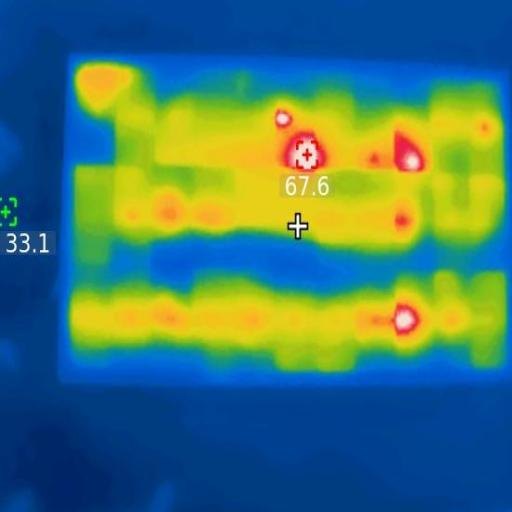hotspot: (286, 135, 326, 169), (396, 132, 428, 172), (394, 302, 419, 334), (274, 112, 294, 132), (395, 211, 411, 234)
